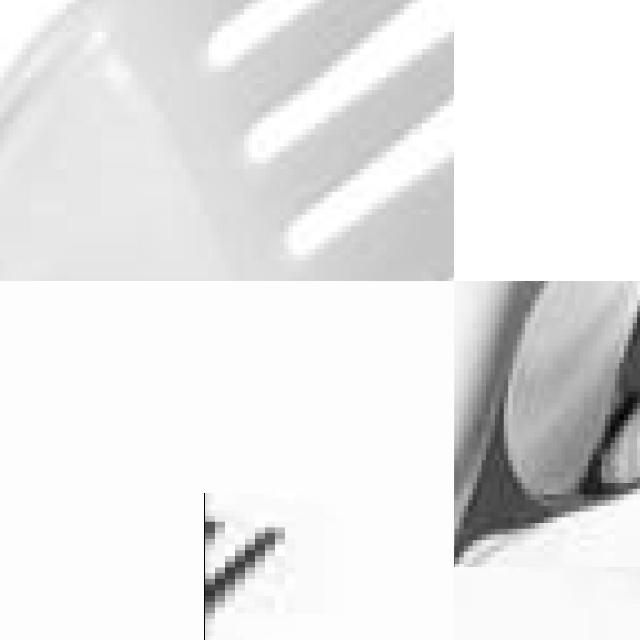forks: (0, 0, 454, 281), (113, 584, 435, 640)
spoons: (454, 281, 640, 567)
